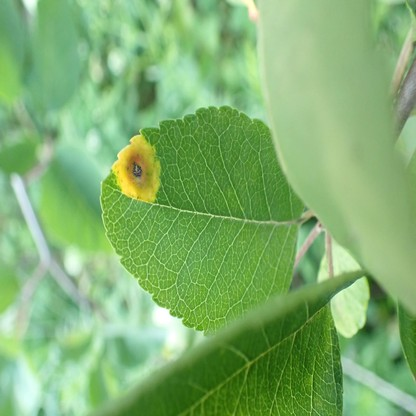rust: (113, 135, 162, 202)
